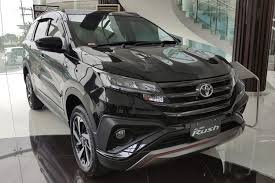mobil: (22, 9, 249, 170)
